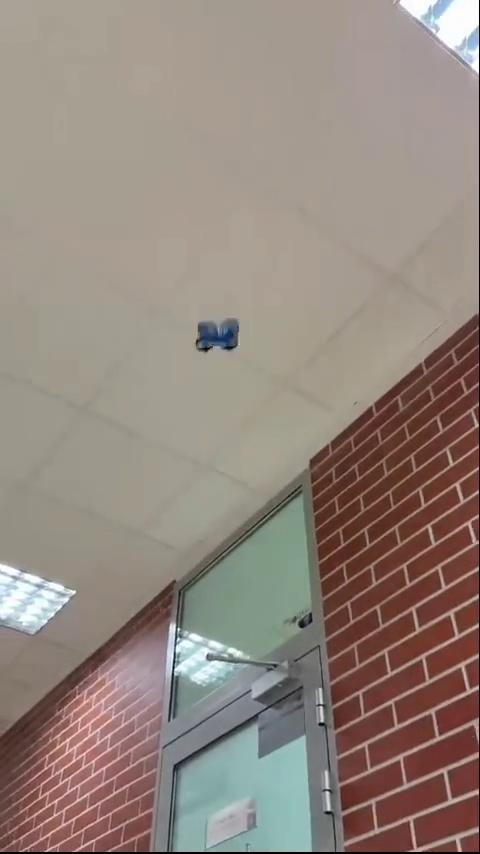drone: (194, 321, 245, 351)
